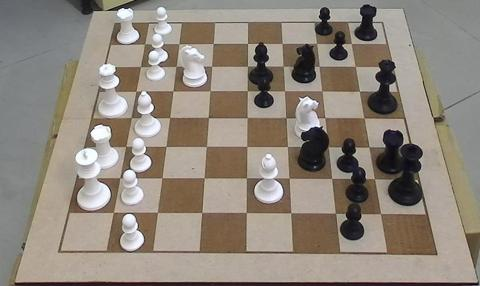xcorner: (347, 40, 357, 50), (243, 39, 253, 49), (208, 39, 218, 49), (139, 39, 149, 49), (279, 62, 289, 72), (243, 62, 253, 72), (207, 62, 217, 72), (171, 62, 181, 72), (135, 62, 145, 72), (318, 87, 328, 97), (280, 87, 290, 97), (243, 87, 253, 97), (360, 114, 370, 124), (321, 114, 331, 124), (282, 114, 292, 124), (161, 142, 171, 152), (120, 142, 130, 152), (371, 175, 381, 185), (328, 175, 338, 185), (285, 175, 295, 185), (200, 174, 210, 184), (157, 174, 167, 184), (198, 209, 208, 219), (153, 209, 163, 219), (312, 40, 322, 49), (174, 39, 183, 49), (351, 63, 361, 72), (315, 63, 325, 72), (356, 87, 365, 97), (205, 87, 215, 96), (168, 87, 178, 96), (131, 86, 140, 96), (243, 114, 253, 123), (204, 113, 213, 123), (165, 113, 174, 123), (126, 113, 135, 123), (325, 143, 334, 153), (284, 143, 293, 153), (243, 143, 252, 153), (202, 143, 212, 152), (115, 174, 124, 184), (333, 210, 342, 220), (288, 210, 297, 220), (108, 209, 118, 218), (278, 40, 287, 49), (366, 144, 375, 153), (243, 175, 252, 184), (378, 211, 387, 220), (243, 210, 252, 219)
